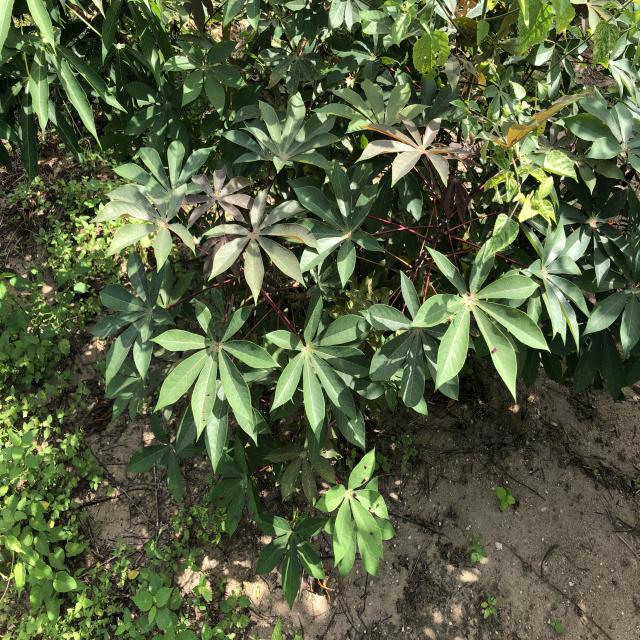Maleza: (1, 265, 94, 640), (13, 541, 252, 636)
Mosca: (366, 500, 382, 514), (487, 343, 499, 357), (367, 529, 376, 538), (360, 476, 368, 485), (362, 462, 369, 472), (352, 489, 359, 499)
